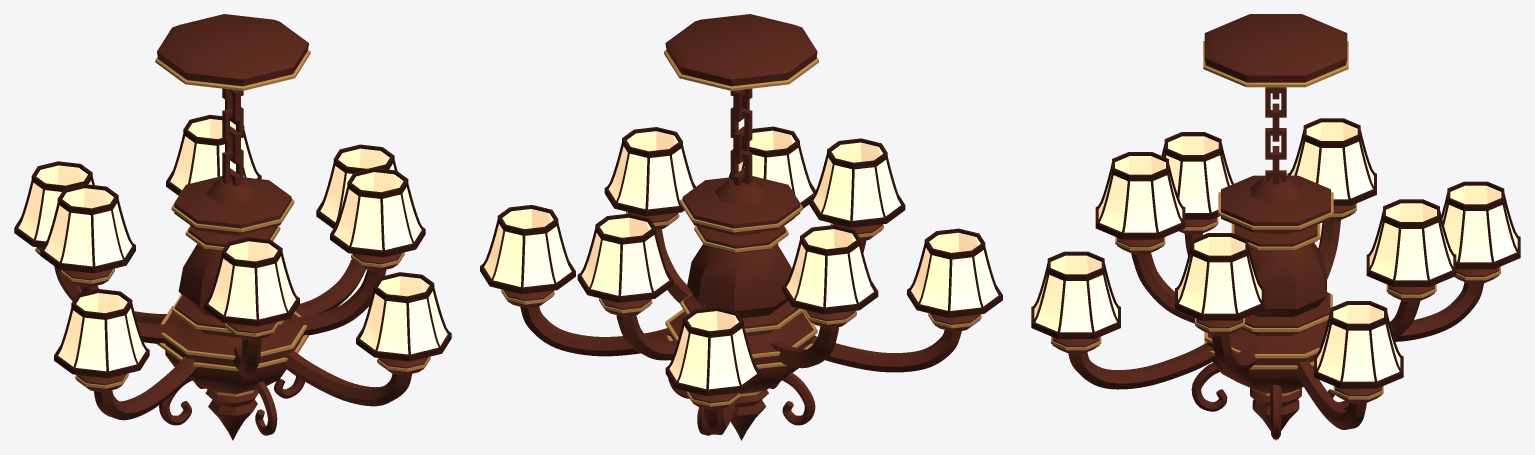
File: GrandChandelier.glb
3 renders of one model, left to right at view 1: azimuth 30°, elevation 25°; view 2: azimuth 150°, elevation 25°; view 3: azimuth 270°, elevation 25°, orthographic.
Visible parts, largest first — view 1: GrandChandelier_Shades, GrandChandelier_Body, GrandChandelier_ShadeFrames, GrandChandelier_Arms, GrandChandelier_Trim, GrandChandelier_Chain; view 2: GrandChandelier_Shades, GrandChandelier_Body, GrandChandelier_ShadeFrames, GrandChandelier_Arms, GrandChandelier_Trim, GrandChandelier_Chain; view 3: GrandChandelier_Shades, GrandChandelier_Body, GrandChandelier_ShadeFrames, GrandChandelier_Arms, GrandChandelier_Trim, GrandChandelier_Chain.
Boxes of the visible parts, left/top/right/bottom form: GrandChandelier_Shades: left=18, top=119, right=447, bottom=371; GrandChandelier_Body: left=157, top=14, right=308, bottom=440; GrandChandelier_ShadeFrames: left=14, top=115, right=451, bottom=378; GrandChandelier_Arms: left=37, top=247, right=428, bottom=435; GrandChandelier_Trim: left=35, top=50, right=430, bottom=396; GrandChandelier_Chain: left=222, top=88, right=243, bottom=185; GrandChandelier_Shades: left=484, top=130, right=998, bottom=389; GrandChandelier_Body: left=665, top=14, right=817, bottom=440; GrandChandelier_ShadeFrames: left=480, top=126, right=1002, bottom=396; GrandChandelier_Arms: left=503, top=212, right=980, bottom=435; GrandChandelier_Trim: left=501, top=50, right=981, bottom=406; GrandChandelier_Chain: left=730, top=88, right=752, bottom=185; GrandChandelier_Shades: left=1034, top=122, right=1517, bottom=381; GrandChandelier_Body: left=1204, top=14, right=1347, bottom=440; GrandChandelier_ShadeFrames: left=1031, top=118, right=1520, bottom=388; GrandChandelier_Arms: left=1052, top=204, right=1499, bottom=439; GrandChandelier_Trim: left=1051, top=41, right=1500, bottom=399; GrandChandelier_Chain: left=1265, top=87, right=1286, bottom=183.
Bounding box in the file's own units: 1.3 × 1.17 × 1.3.
